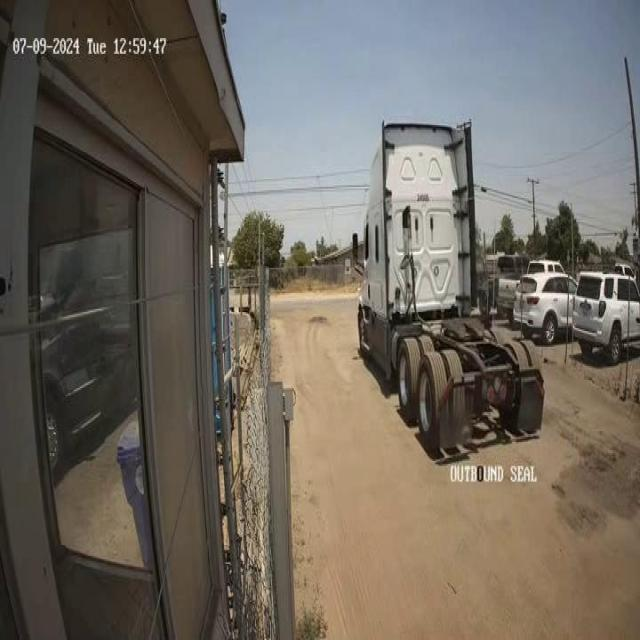TRUCK_OUT: (354, 118, 546, 456)
